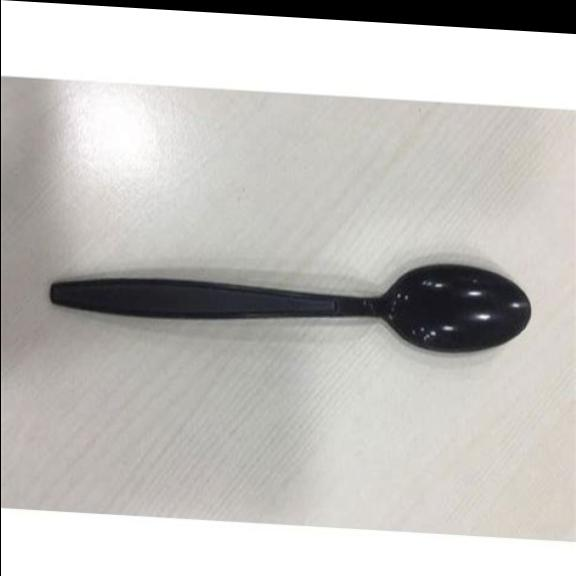Plastik: (50, 264, 529, 353)
